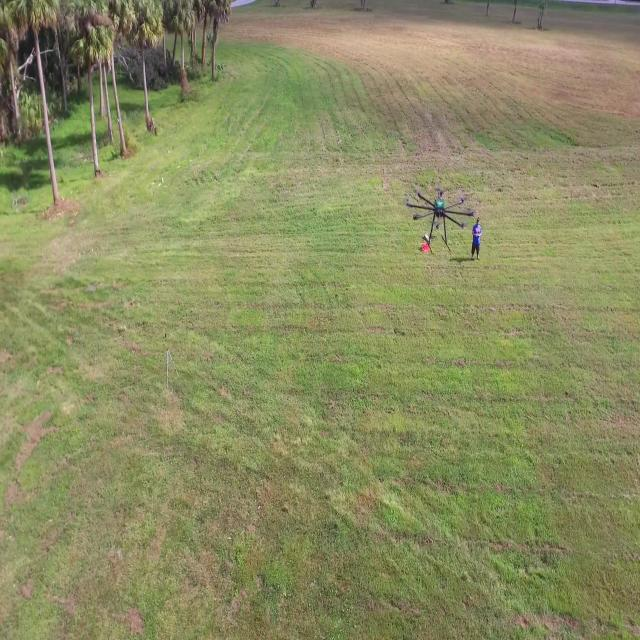drone: (405, 177, 476, 259)
